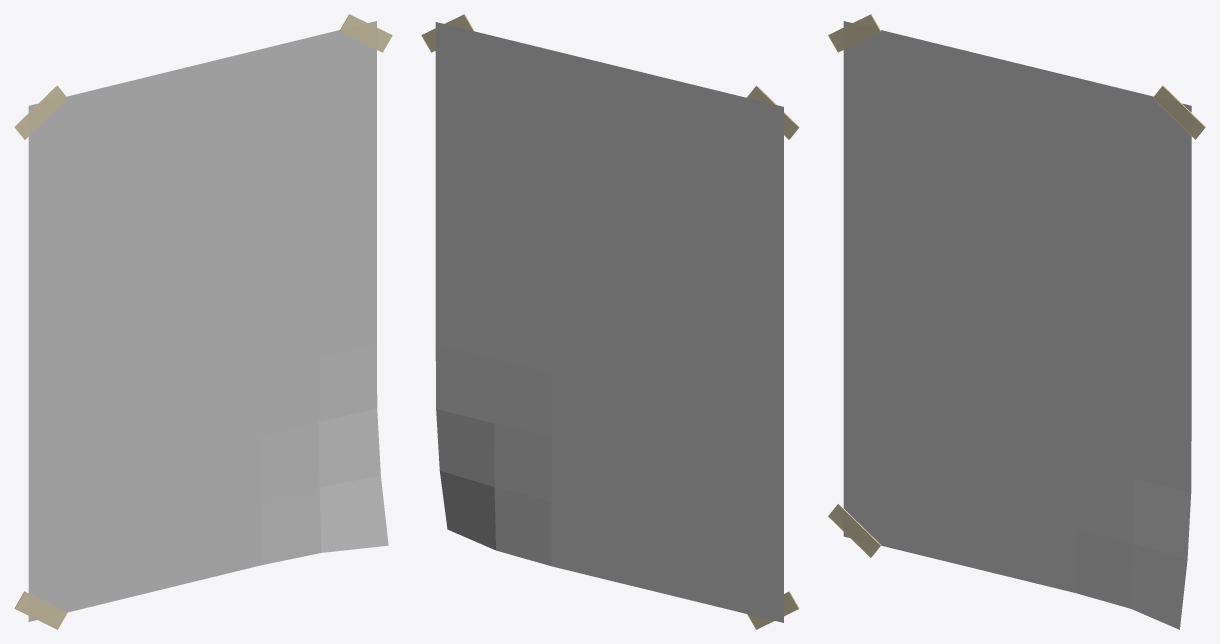
Rendered from poster_mark.glb.
3 views of the same model, side by side, from view 1: azimuth 30°, elevation 25°; view 2: azimuth 150°, elevation 25°; view 3: azimuth 330°, elevation 25° (orthographic).
Visible parts, largest first — view 1: giay, vo; view 2: giay, vo; view 3: giay, vo.
Boxes of the visible parts, box(x1,y1,x2,y2) form: giay: box(28, 21, 388, 621); vo: box(14, 14, 392, 629); giay: box(435, 22, 783, 622); vo: box(421, 14, 799, 629); giay: box(843, 21, 1191, 629); vo: box(828, 14, 1205, 557).
Size of the model in its own units: 0.6509 by 0.8962 by 0.035.
